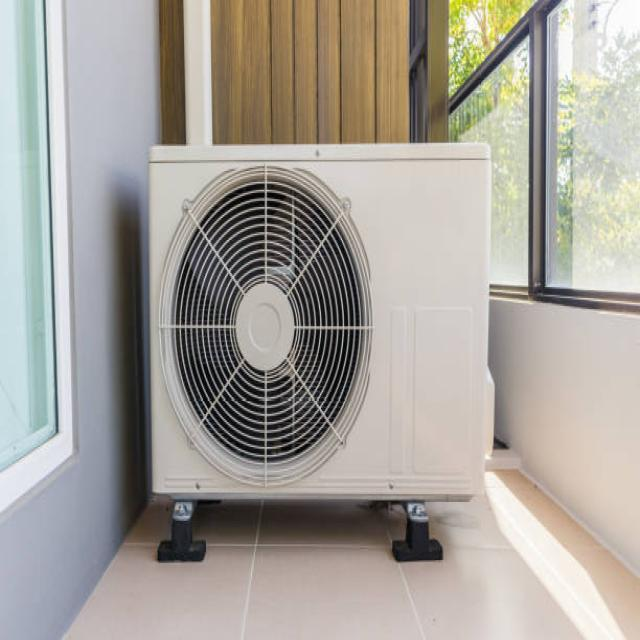Fan: (147, 143, 494, 498)
